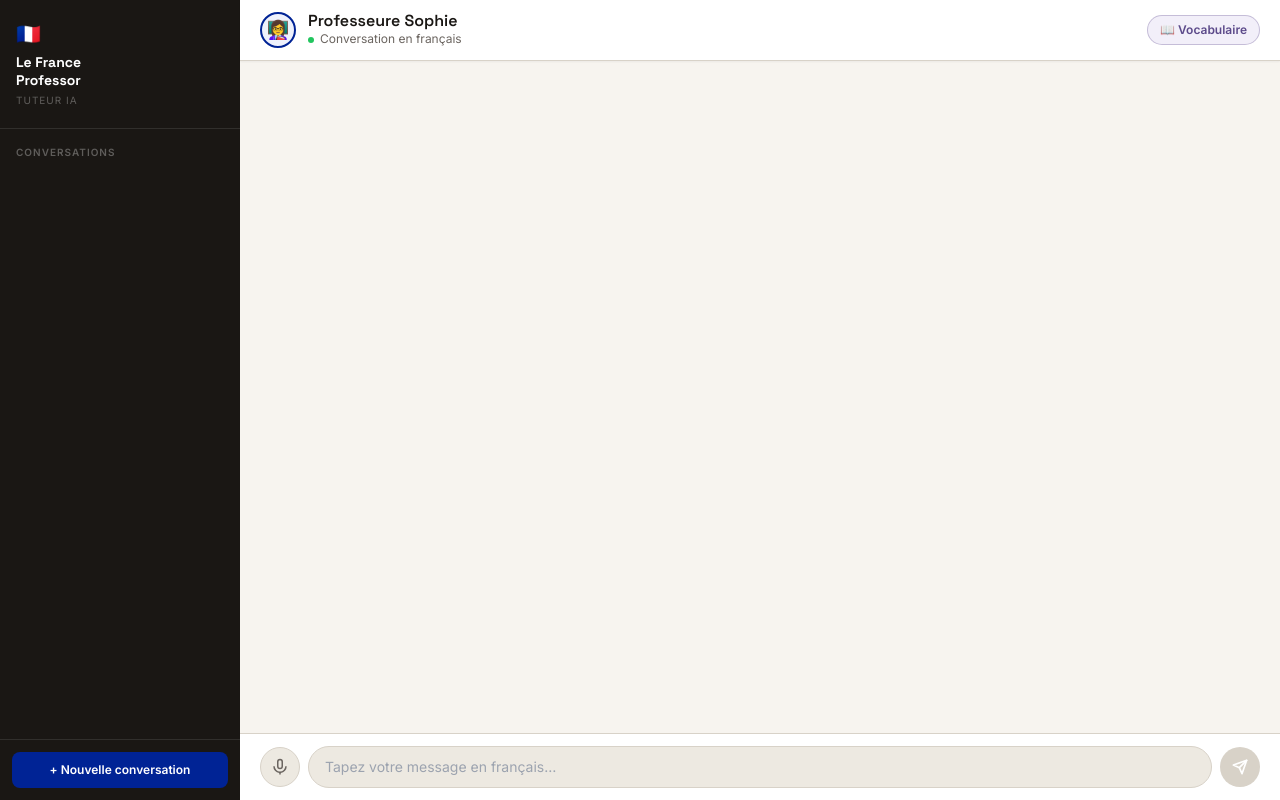
Test case: ChatClient › shows an error message on API failure
Type "Bonjour" into the field.
click(760, 767); type("Bonjour")  # box top-left (308, 746), bottom-right (1212, 788)
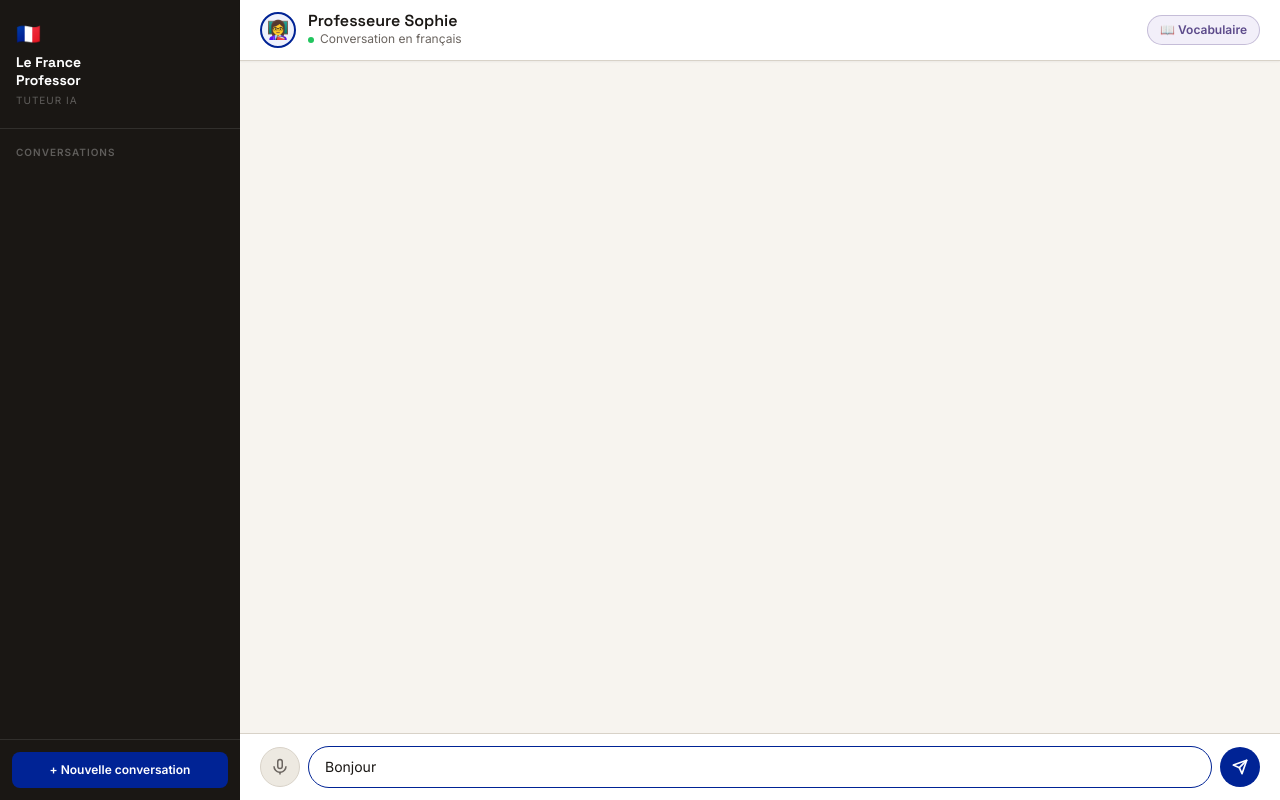
Click the button named "Envoyer".
click(1240, 767)  # box top-left (1220, 747), bottom-right (1260, 787)
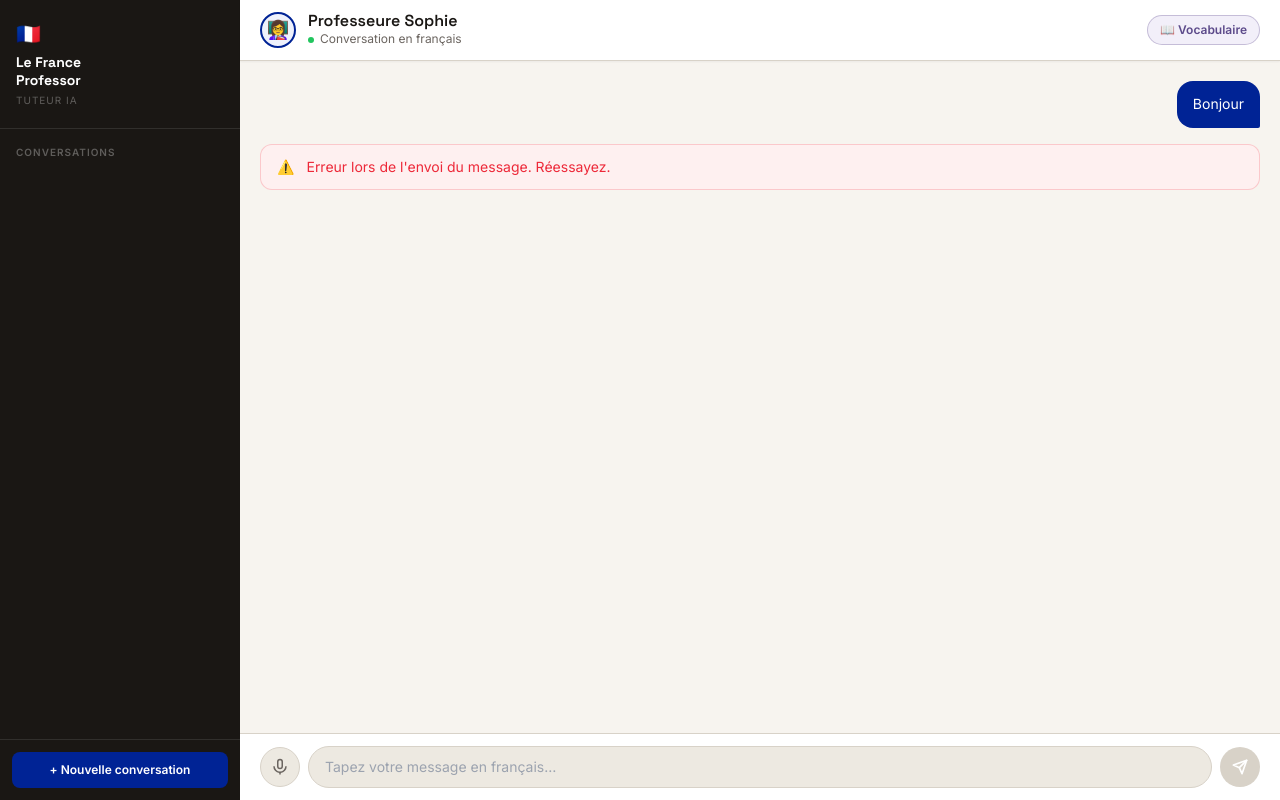
Check: the text "Erreur lors de l'envoi du message. Réessayez." is shown, box top-left (306, 158), bottom-right (610, 175)
